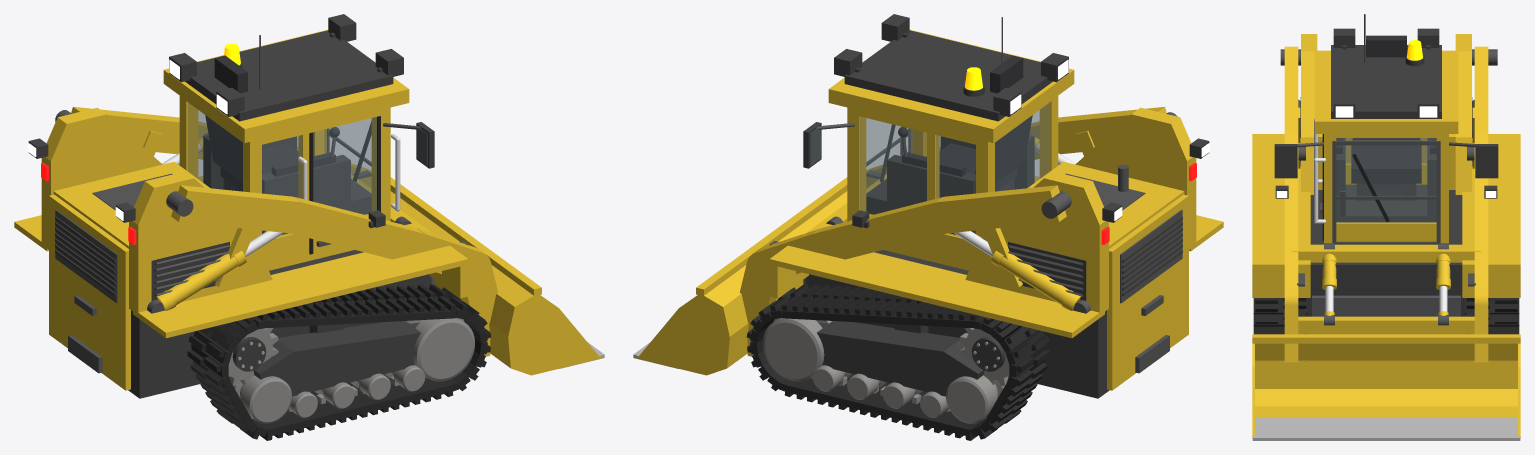
Rendered from compact_track_loader.glb.
3 renders of one model, left to right at view 1: azimuth 30°, elevation 25°; view 2: azimuth 150°, elevation 25°; view 3: azimuth 270°, elevation 25°, orthographic. The views are drawn at different scales.
Visible parts, largest first — view 1: body, cab, track_right, loader_arm_tilt, quick_attach_tilt, undercarriage_right, front_idler_right_spin, rear_idler_right_spin, sprocket_right_spin, lift_cylinder_right_rotate, lift_link_right_rotate, track_roller_right_3_spin (+3 smaller); view 2: body, cab, track_left, loader_arm_tilt, quick_attach_tilt, undercarriage_left, front_idler_left_spin, rear_idler_left_spin, sprocket_left_spin, lift_cylinder_left_rotate, lift_link_left_rotate, track_roller_left_3_spin (+3 smaller); view 3: quick_attach_tilt, cab, body, loader_arm_tilt, track_right, track_left, tilt_cylinder_right_rotate, tilt_cylinder_left_rotate, tilt_cylinder_right_rod_slide, tilt_cylinder_left_rod_slide.
Boxes of the visible parts, box(x1,y1,x2,y2) form: body: box(14, 107, 468, 398); cab: box(163, 14, 434, 270); track_right: box(187, 284, 491, 440); loader_arm_tilt: box(55, 106, 498, 324); quick_attach_tilt: box(390, 177, 604, 375); undercarriage_right: box(253, 321, 420, 396); front_idler_right_spin: box(406, 318, 474, 381); rear_idler_right_spin: box(233, 375, 291, 423); sprocket_right_spin: box(228, 328, 278, 385); lift_cylinder_right_rotate: box(147, 251, 246, 313); lift_link_right_rotate: box(215, 228, 254, 289); track_roller_right_3_spin: box(350, 373, 390, 399); body: box(769, 107, 1223, 398); cab: box(803, 14, 1074, 270); track_left: box(746, 284, 1050, 440); loader_arm_tilt: box(739, 106, 1177, 324); quick_attach_tilt: box(633, 177, 847, 375); undercarriage_left: box(817, 321, 984, 396); front_idler_left_spin: box(763, 318, 831, 381); rear_idler_left_spin: box(946, 375, 1004, 423); sprocket_left_spin: box(959, 328, 1009, 385); lift_cylinder_left_rotate: box(991, 251, 1090, 313); lift_link_left_rotate: box(983, 228, 1022, 289); track_roller_left_3_spin: box(847, 373, 887, 399); quick_attach_tilt: box(1252, 316, 1520, 440); cab: box(1274, 14, 1498, 244); body: box(1252, 34, 1520, 316); loader_arm_tilt: box(1275, 46, 1497, 362); track_right: box(1253, 298, 1307, 334); track_left: box(1465, 298, 1519, 334); tilt_cylinder_right_rotate: box(1322, 243, 1336, 289); tilt_cylinder_left_rotate: box(1436, 243, 1450, 289); tilt_cylinder_right_rod_slide: box(1324, 286, 1334, 325); tilt_cylinder_left_rod_slide: box(1438, 286, 1448, 325).
Size of the model in its own units: 3.42 by 2.5 by 1.98.
Materials: 16 (16 with a texture image).
